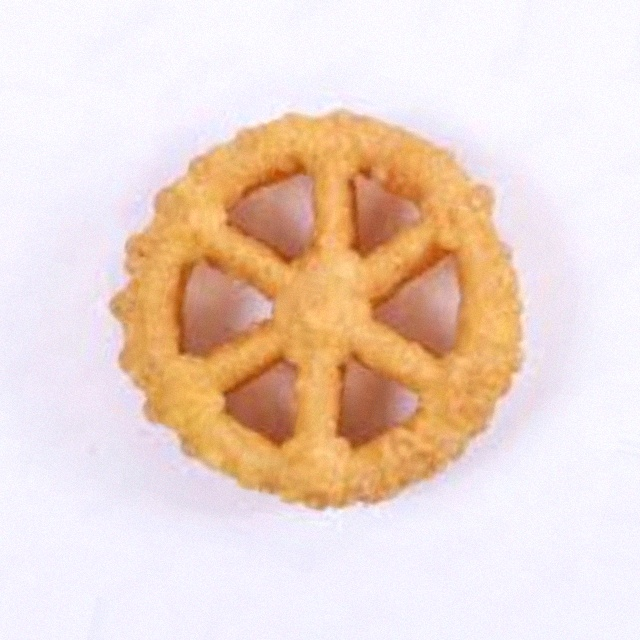Kokis: (69, 82, 571, 558)
